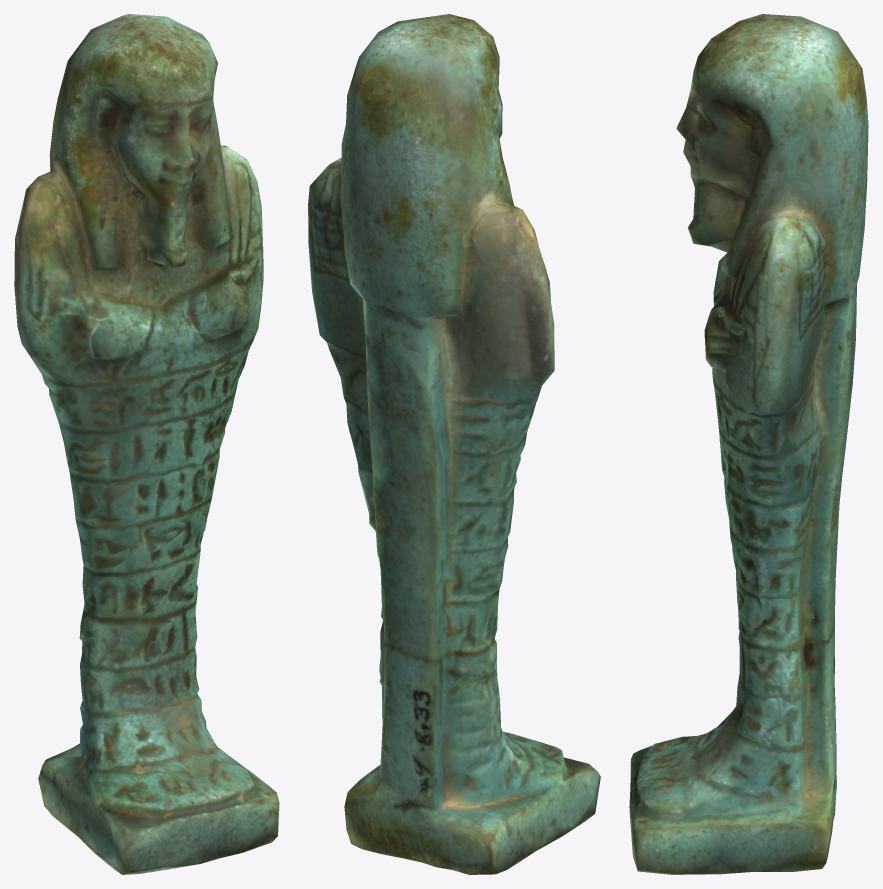
The model's file is shabti.obj.
3 renders of one model, left to right at view 1: azimuth 30°, elevation 25°; view 2: azimuth 150°, elevation 25°; view 3: azimuth 270°, elevation 25°, orthographic. The views are drawn at different scales.
Bounding box in the file's own units: 0.1416 × 0.4508 × 0.1188.
1 material, 1 textured.
